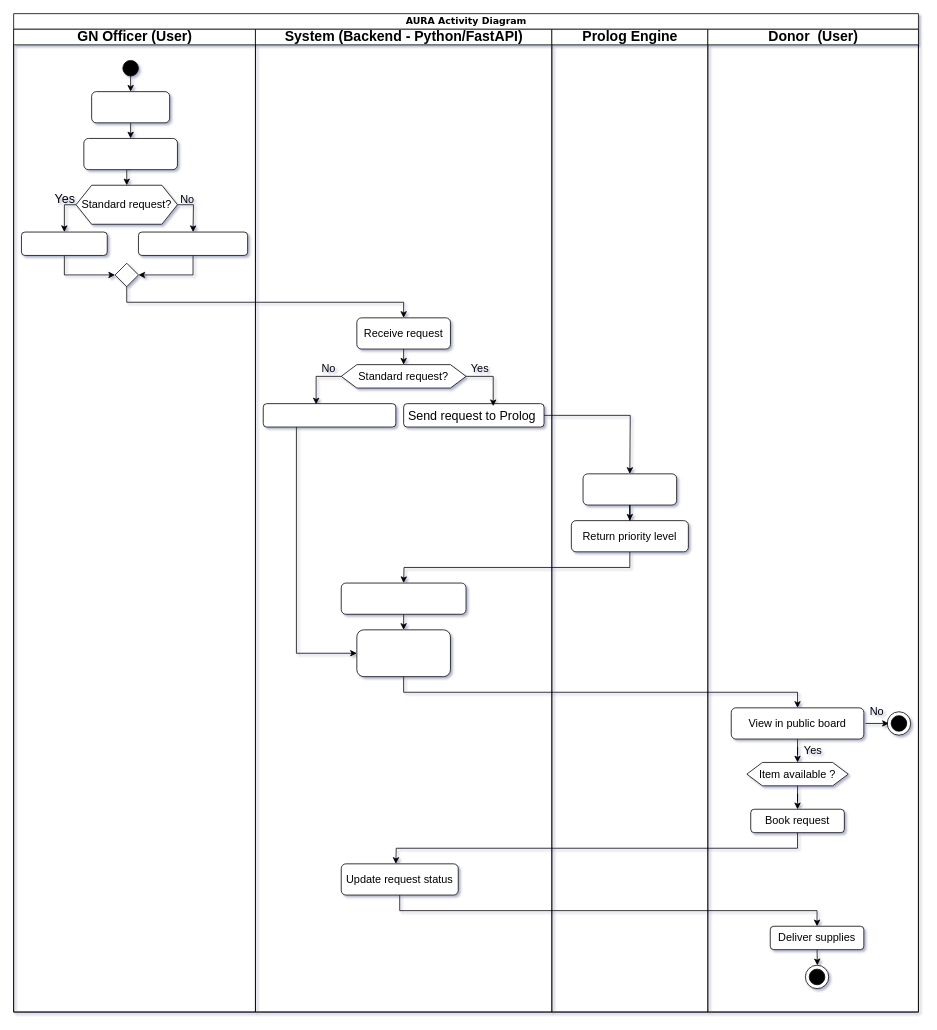
This 937x1030 diagram has some shape labels left out. Each missing label, with the centre of its shape:
Analyze priority: point 629,489
Assign priority (Red/Orange/Yellow): point 403,598
Fill request form: point 130,154
Log in: point 130,107
Post special requst: point 193,243
Publish To Public Board: point 329,415
Store in Database: point 403,653
Submit Request: point 64,243
